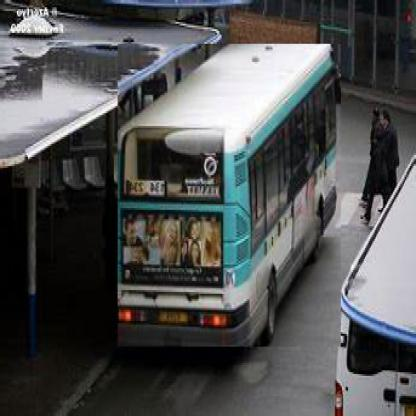bus: (117, 45, 342, 349)
